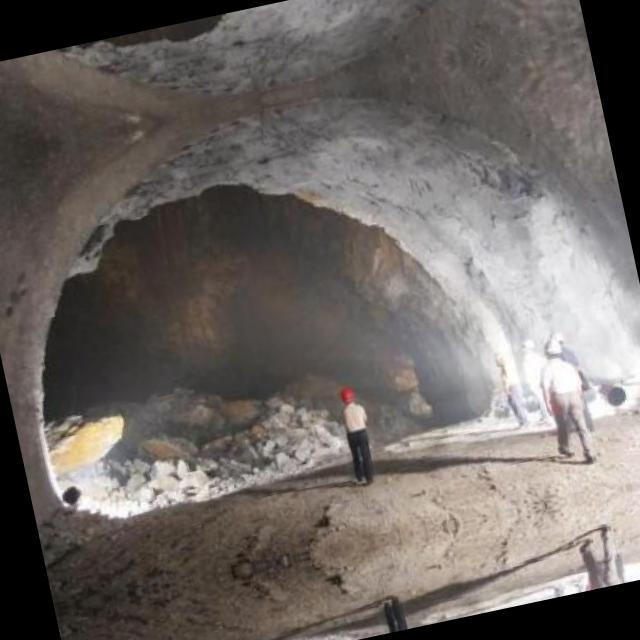helmet: (336, 381, 358, 408), (541, 337, 561, 362)
